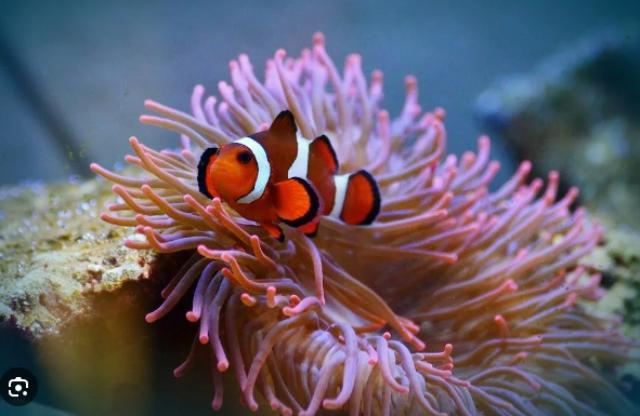Mulut: (198, 152, 250, 192)
Sirip Dada: (264, 176, 332, 230), (182, 136, 224, 208)
Sirip Ekor: (338, 163, 388, 239)
Sirip Perut: (250, 214, 288, 250)
Sirip Punggung: (266, 102, 346, 176)
